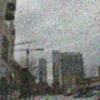stairs: (20, 40, 95, 100)
